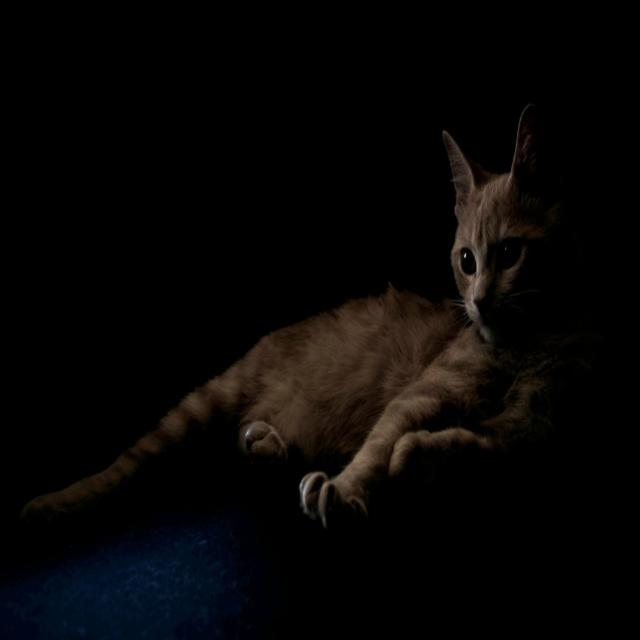Cat: (37, 99, 622, 585)
